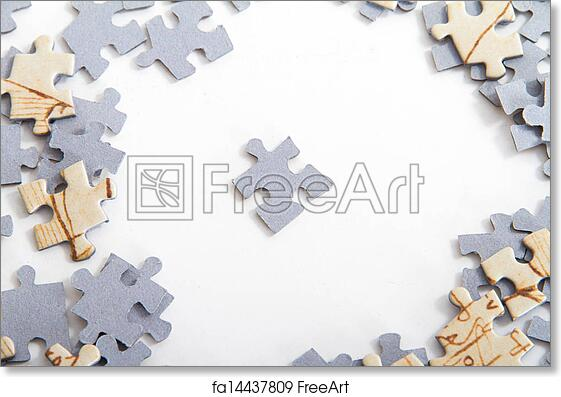puzzle piece: (233, 122, 346, 235), (56, 250, 163, 352), (19, 164, 127, 258), (7, 34, 105, 136), (431, 1, 535, 94), (133, 7, 248, 89), (486, 230, 561, 320)
